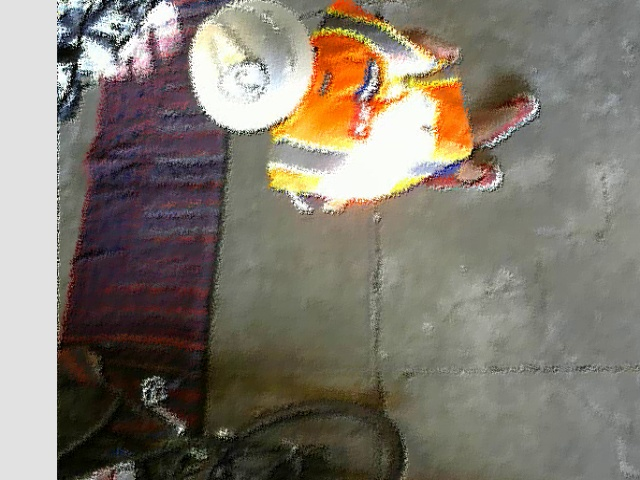two: (217, 62, 268, 104)
